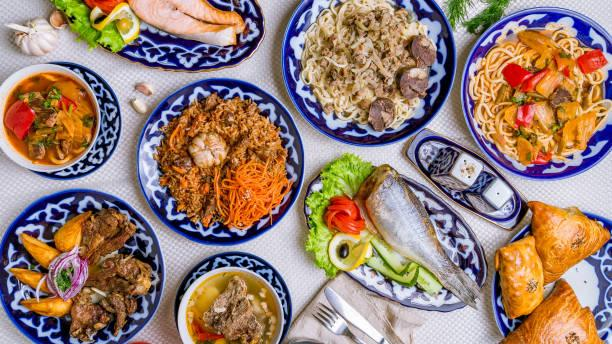Braised Crucian Carp: (136, 77, 297, 245), (303, 162, 481, 312), (460, 6, 609, 181), (281, 0, 452, 150), (0, 188, 164, 342), (494, 209, 612, 341), (65, 0, 262, 71), (1, 62, 125, 174), (176, 242, 284, 343)
